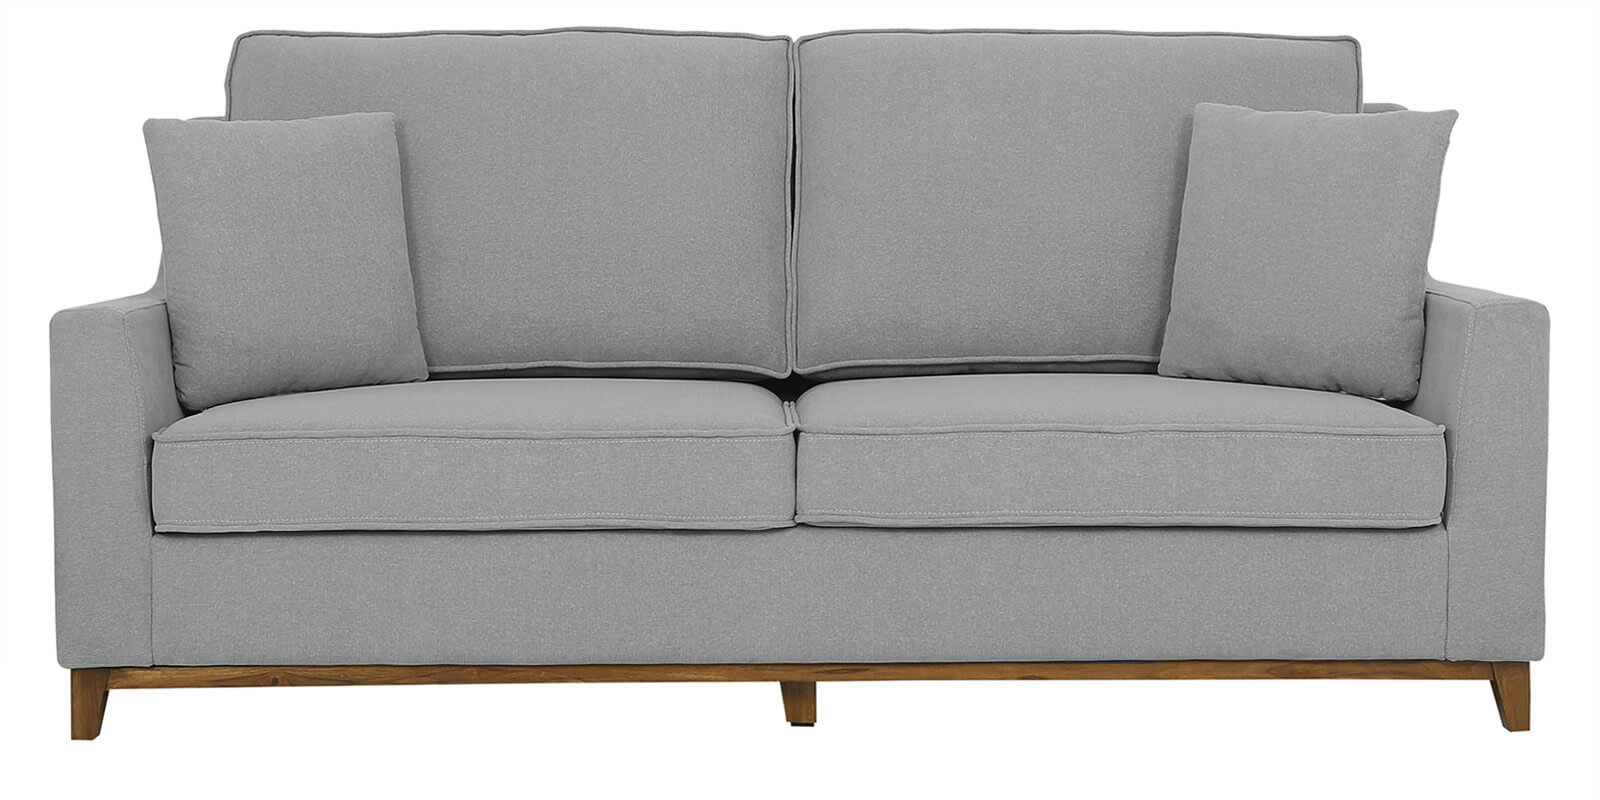Diego Three Seater Sofa in Ash Grey Colour by CasaCraft: (36, 11, 1556, 743)
